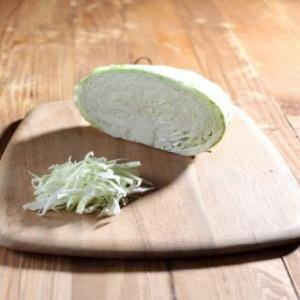cabbage: (72, 61, 235, 158)
